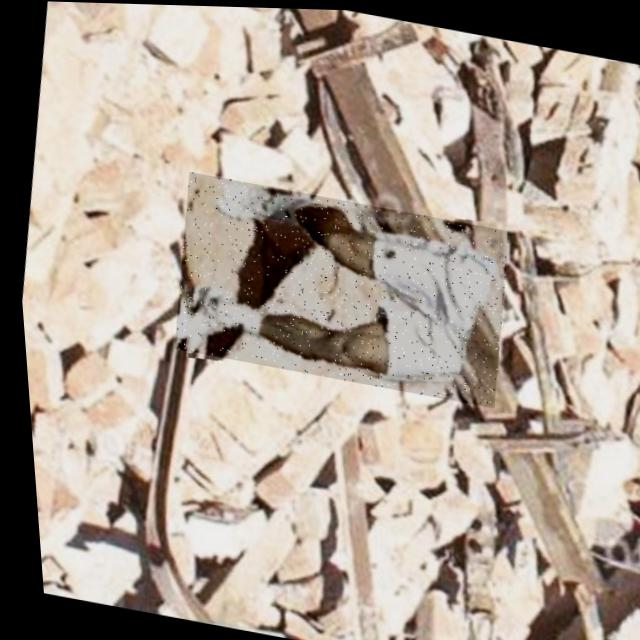Person in Rubble: (158, 170, 515, 406)
